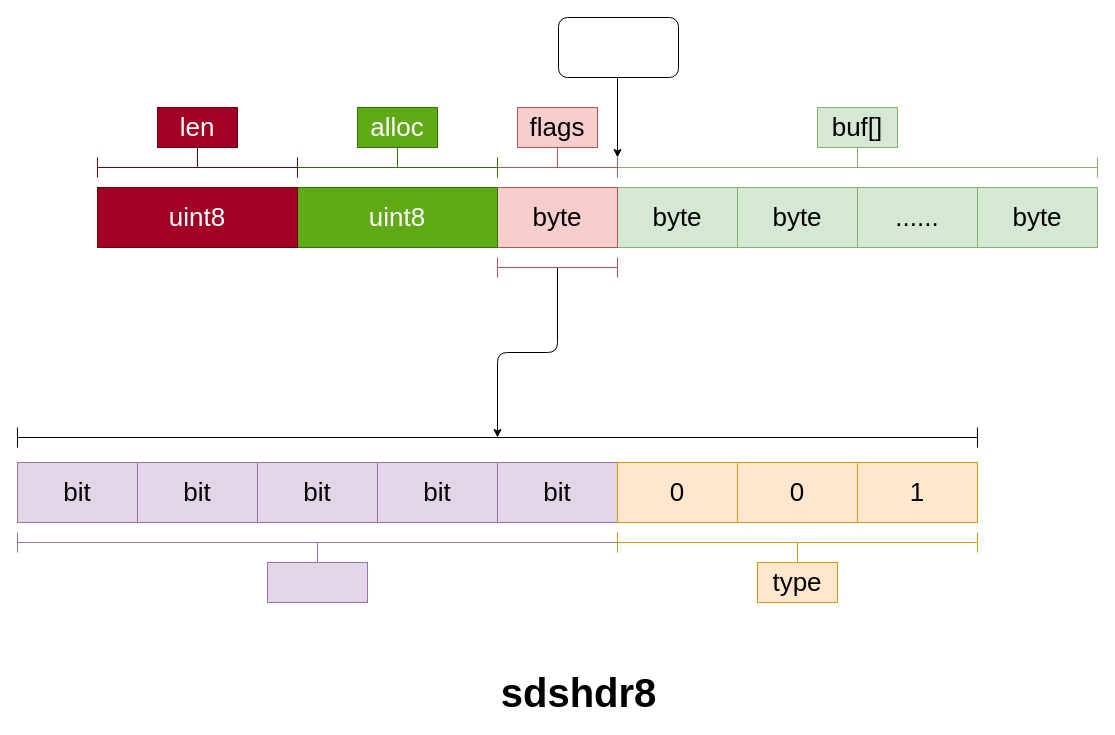
Some shapes in this 1115 by 735 pixel diagram are drawn without their labels. Each missing label, with the box of its shape:
sds: (558, 16, 678, 78)
未使用: (266, 562, 368, 602)
